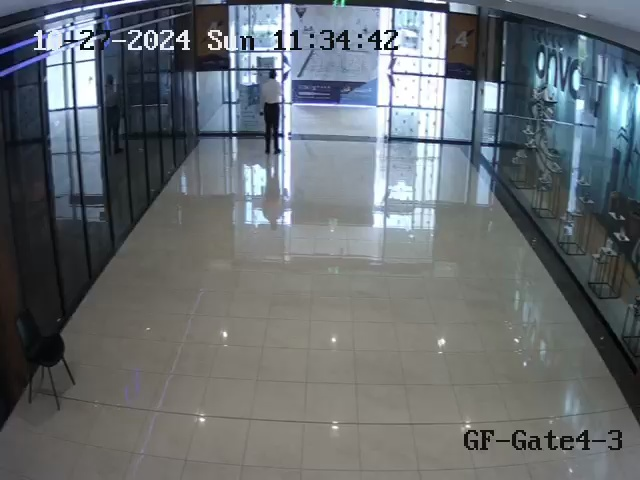employee: (259, 69, 283, 155)
male: (104, 75, 124, 154)
